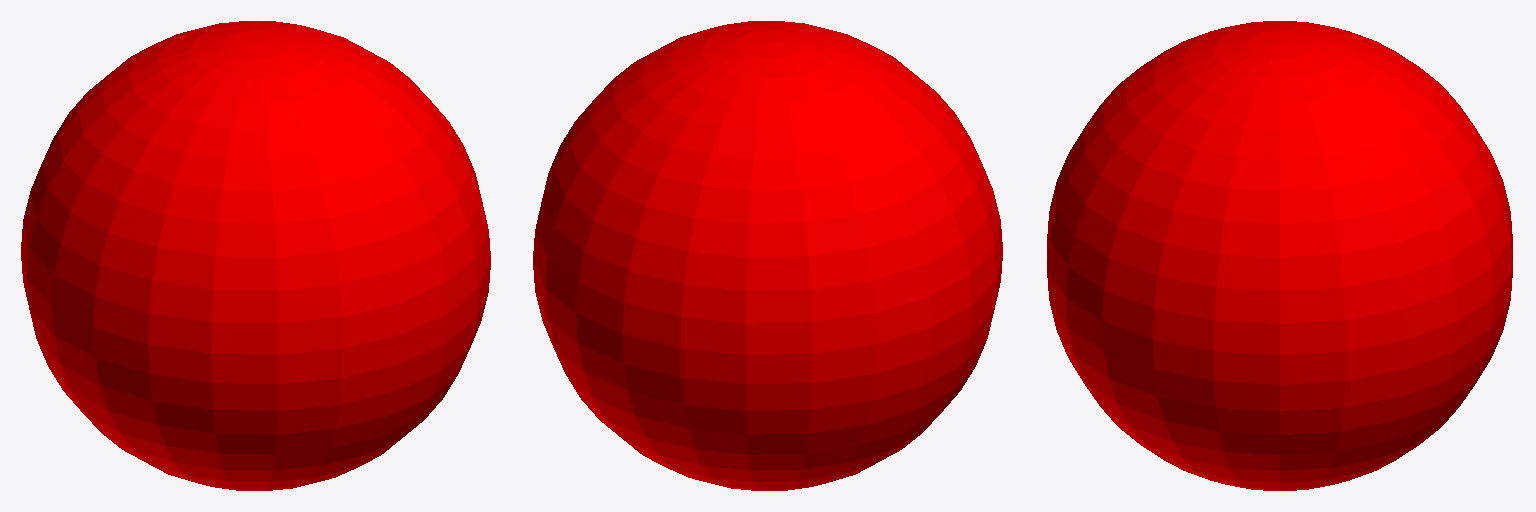
The model's file is sphere_red.obj.
The picture shows the model from 3 angles: view 1: azimuth 30°, elevation 25°; view 2: azimuth 150°, elevation 25°; view 3: azimuth 270°, elevation 25°; orthographic projection.
Visible parts, largest first — view 1: Sphere; view 2: Sphere; view 3: Sphere.
Part boxes in pixels (x1,y1,x2,y2): Sphere: (21,21,490,490); Sphere: (533,21,1002,490); Sphere: (1047,21,1512,490).
Size of the model in its own units: 2 by 2 by 1.98.